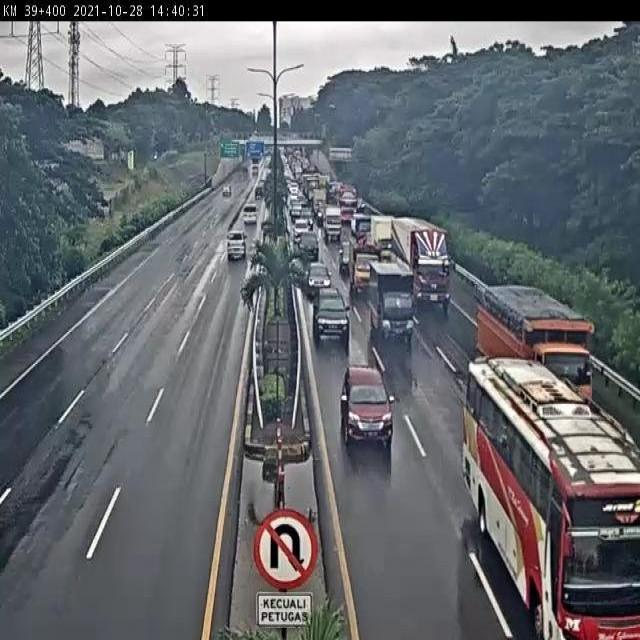bus-l-: (466, 357, 640, 640)
car: (340, 364, 396, 445), (312, 287, 352, 337), (305, 260, 331, 296), (222, 237, 248, 267), (296, 228, 319, 260), (239, 207, 259, 232)
truck-l-: (475, 280, 593, 421), (388, 214, 452, 310)
truck-m-: (369, 265, 413, 340), (349, 247, 381, 300)
